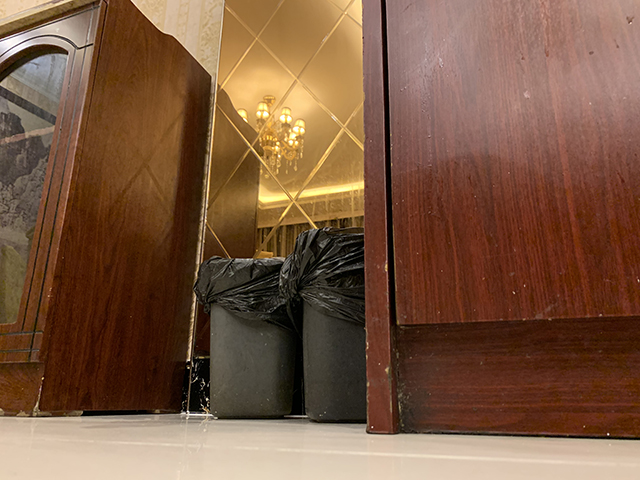cabinet: (361, 1, 639, 441), (1, 1, 212, 420)
trashcan: (194, 252, 295, 421), (295, 222, 368, 423)
